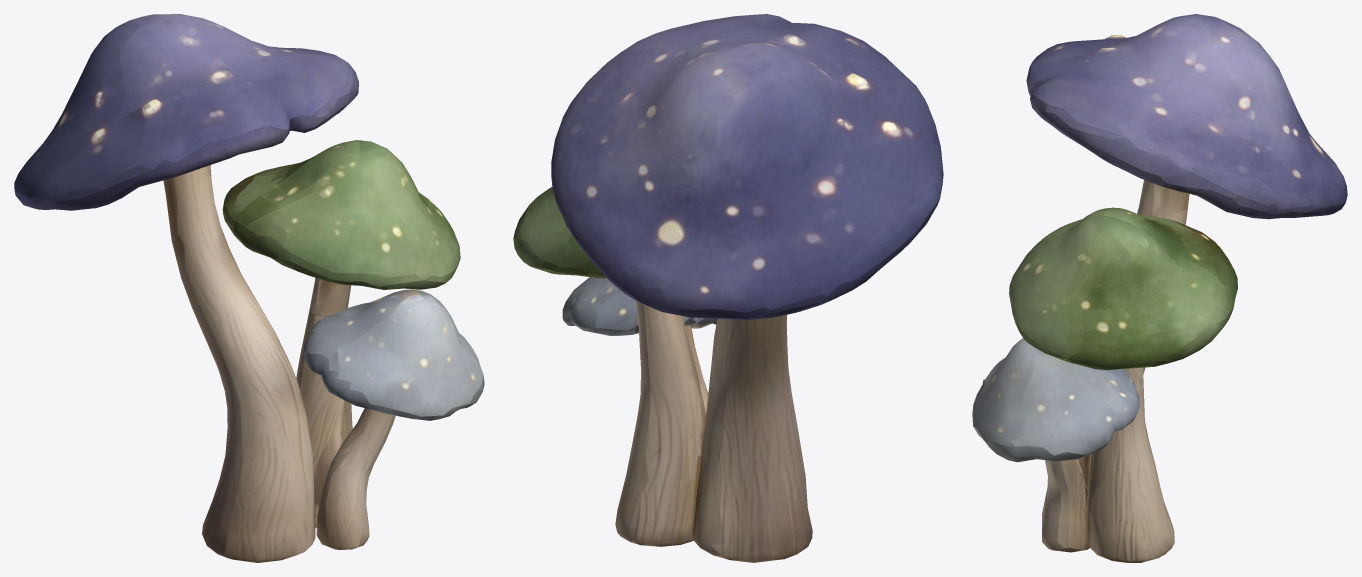
File: moon-mushrooms.glb
3 renders of one model, left to right at view 1: azimuth 30°, elevation 25°; view 2: azimuth 150°, elevation 25°; view 3: azimuth 270°, elevation 25°, orthographic. The views are drawn at different scales.
Visible parts, largest first — view 1: geometry_0; view 2: geometry_0; view 3: geometry_0.
Part boxes in pixels (bbox=[...]): geometry_0: bbox=[14, 14, 484, 562]; geometry_0: bbox=[513, 14, 943, 562]; geometry_0: bbox=[972, 14, 1347, 562].
Bounding box in the file's own units: 0.4895 × 0.6 × 0.4344.
Materials: 1 (1 with a texture image).
